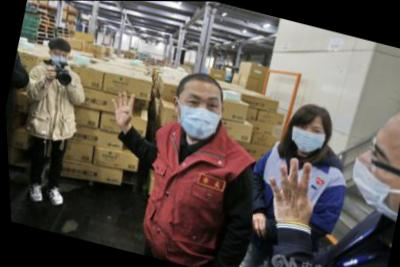OK: (169, 86, 227, 144), (287, 117, 328, 156), (49, 48, 70, 68)
WRONG: (339, 124, 400, 221)
